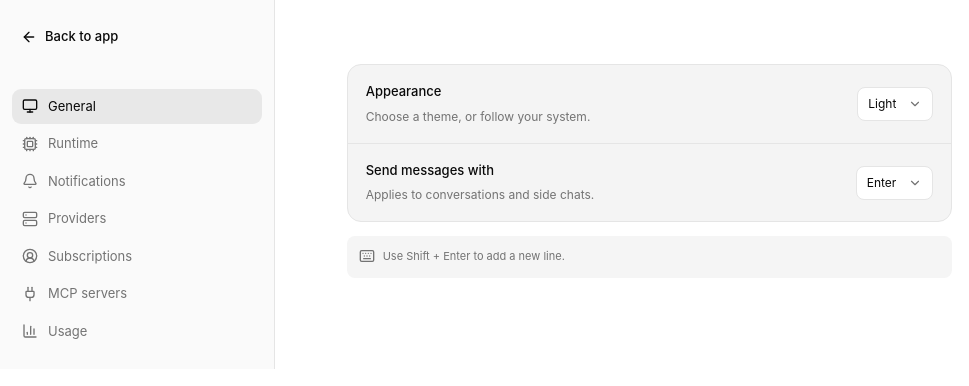
Test case: keeps failed edits visible and retries with a freshly read version
Click the button "Runtime" at (137, 144), box [12,126,262,162]
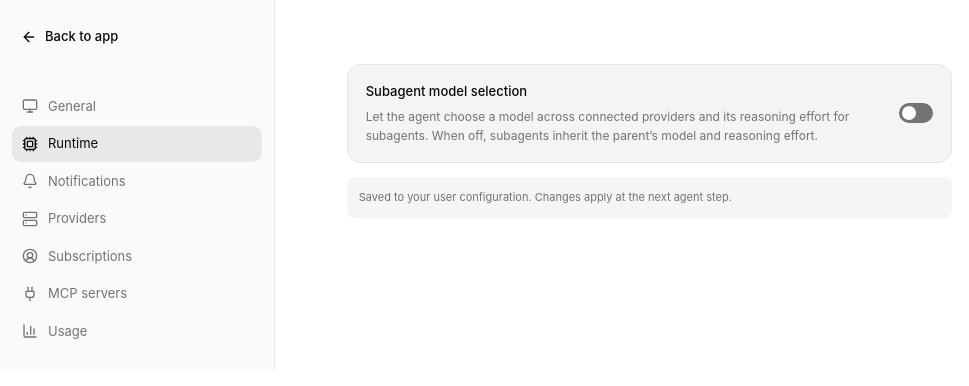
Click the switch named "Subagent model selection" at (916, 113), box [899,103,933,123]
Wait 250 ms
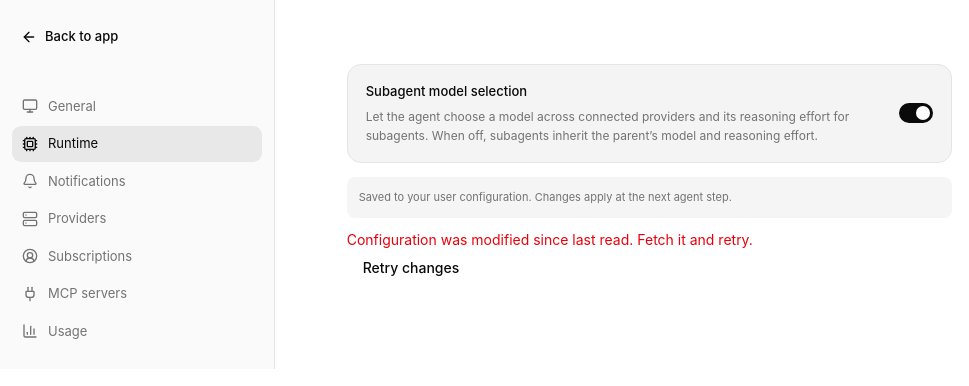
Expected: the message shows "Configuration was modified", [347,232,753,248]
Click the button "Retry changes" at (411, 268), box [347,250,475,286]
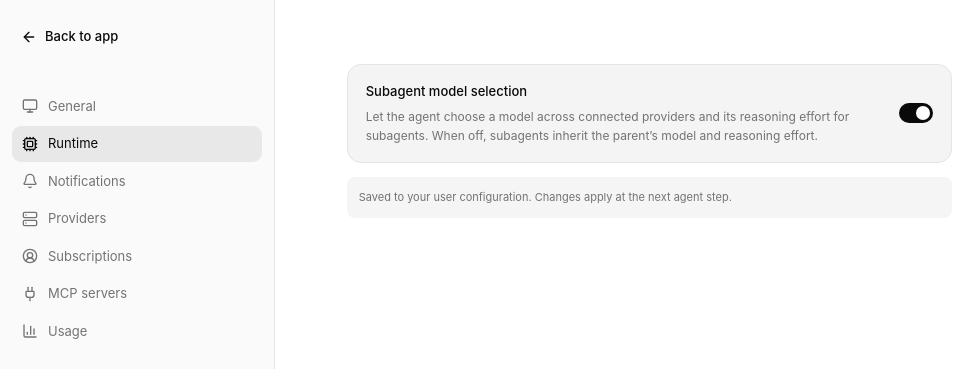
Expected: the message "Configuration was modified since last read. Fetch it and retry." is gone
